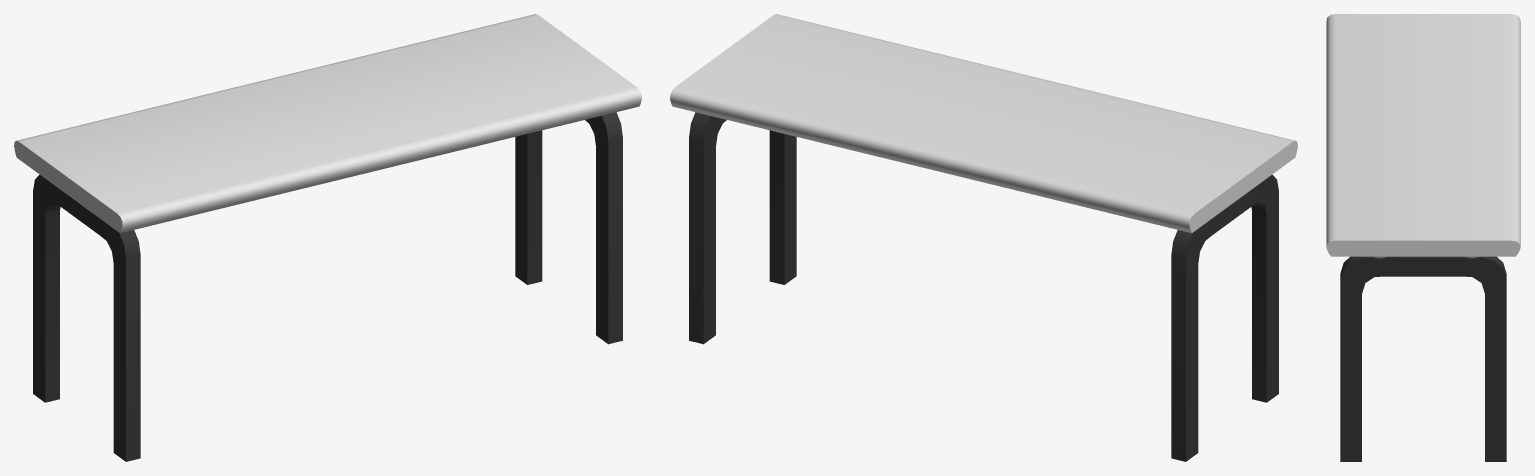
Rendered from Desk_Alter.obj.
3 views of the same model, side by side, from view 1: azimuth 30°, elevation 25°; view 2: azimuth 150°, elevation 25°; view 3: azimuth 270°, elevation 25° (orthographic). The views are drawn at different scales.
Parts seen in each view (by area): view 1: Desk_Alter; view 2: Desk_Alter; view 3: Desk_Alter.
Boxes of the visible parts, <box> form: Desk_Alter: <box>14,14,641,461</box>; Desk_Alter: <box>670,14,1297,461</box>; Desk_Alter: <box>1326,14,1520,461</box>.
Size of the model in its own units: 2.14 by 0.9955 by 0.7744.
